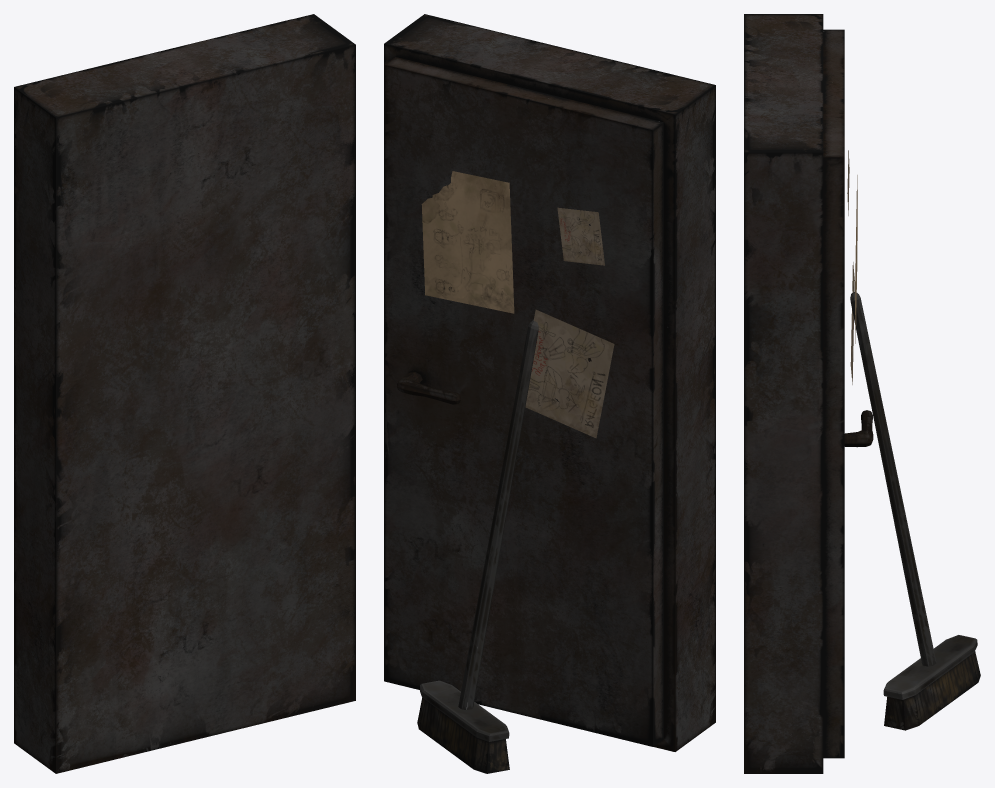
Rendered from Door_Set.fbx.
3 renders of one model, left to right at view 1: azimuth 30°, elevation 25°; view 2: azimuth 150°, elevation 25°; view 3: azimuth 270°, elevation 25°, orthographic. The views are drawn at different scales.
Parts seen in each view (by area): view 1: Door; view 2: Door, Notes_Door_1, Broom, Notes_Door_2, Notes_Door_3; view 3: Door, Broom.
Part boxes in pixels (x1,y1,x2,y2): Door: [14, 14, 355, 773]; Door: [384, 14, 715, 751]; Notes_Door_1: [421, 171, 514, 313]; Broom: [417, 320, 538, 773]; Notes_Door_2: [525, 309, 614, 438]; Notes_Door_3: [557, 207, 604, 265]; Door: [744, 14, 873, 773]; Broom: [850, 292, 980, 730].
Size of the model in its own units: 120 by 251 by 86.56.
